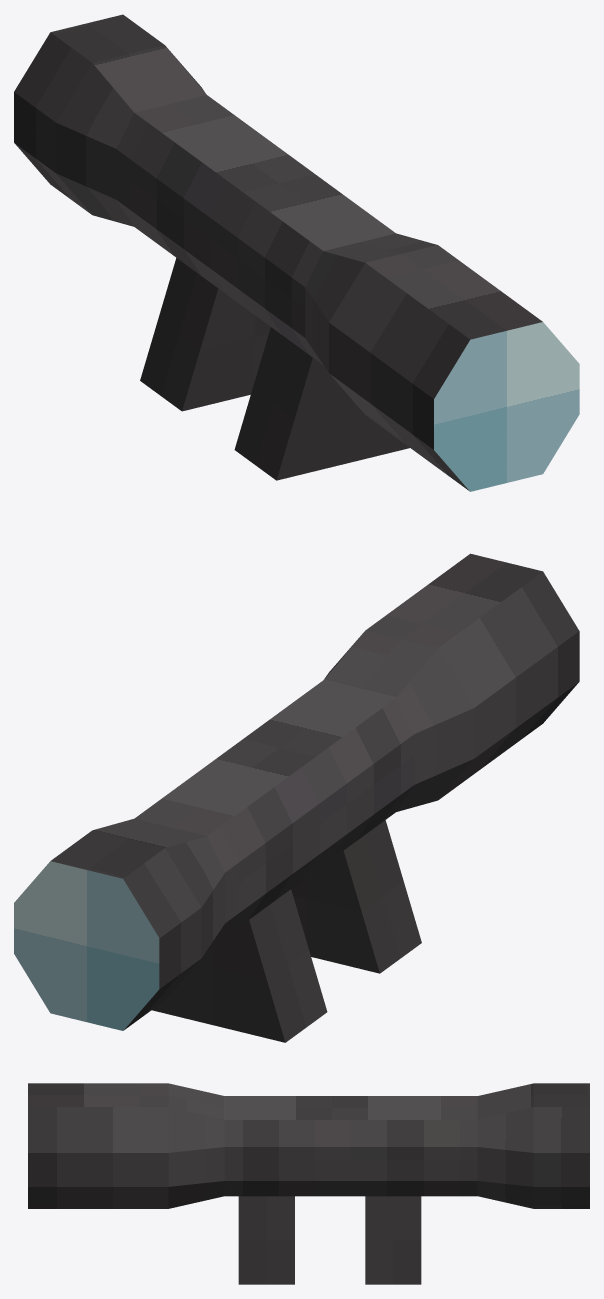
File: accessory_scope_default.obj
3 renders of one model, top to bottom at view 1: azimuth 30°, elevation 25°; view 2: azimuth 150°, elevation 25°; view 3: azimuth 270°, elevation 25°, orthographic. The views are drawn at different scales.
Parts seen in each view (by area): view 1: scope; view 2: scope; view 3: scope.
Boxes of the visible parts, x1,y1,x2,y2 form: scope: (14, 14, 579, 491); scope: (14, 553, 579, 1042); scope: (28, 1083, 589, 1284).
Size of the model in its own units: 0.0625 by 0.1016 by 0.3203.
